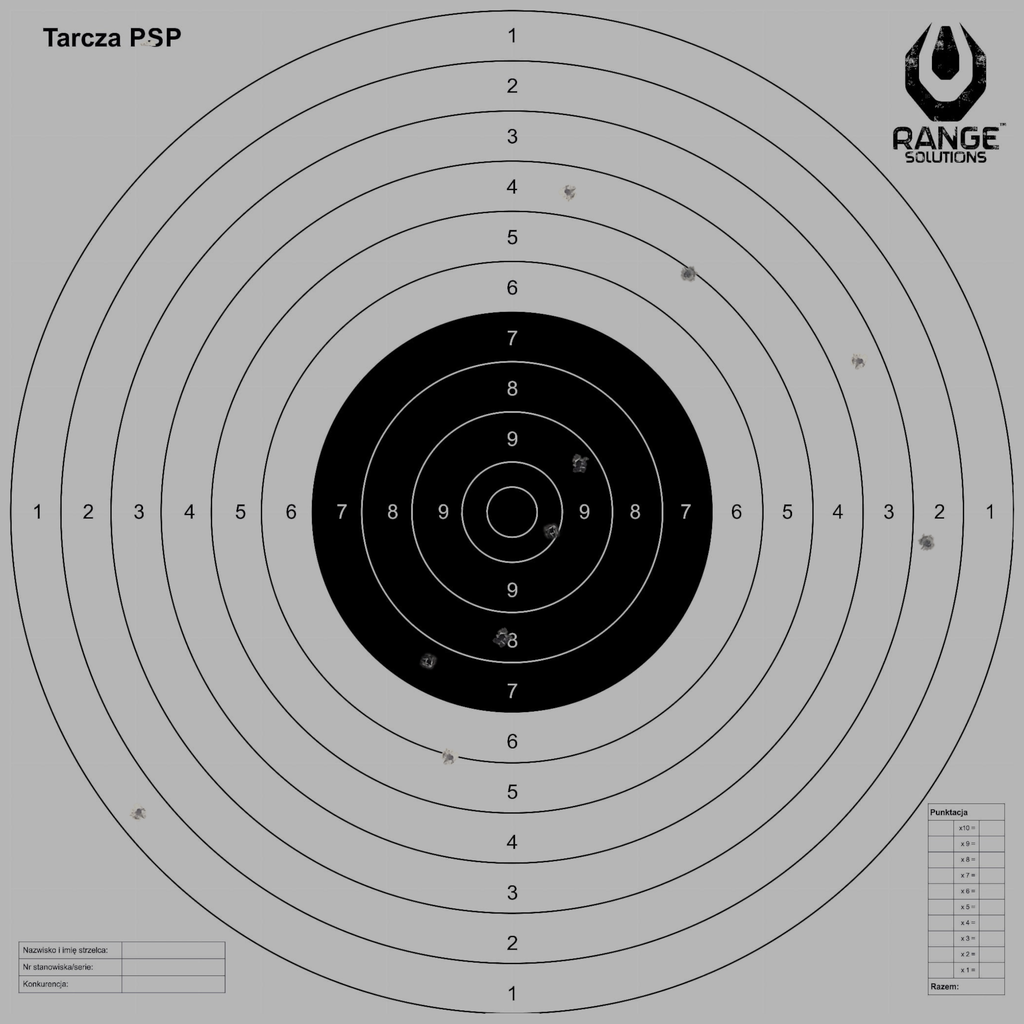0 punktow: (775, 8, 793, 27)
1 punkt: (130, 803, 148, 821)
10 punktow: (543, 521, 561, 540)
2 punkty: (918, 534, 936, 552)
3 punkty: (850, 352, 869, 371)
4 punkty: (559, 183, 577, 201)
5 punktow: (679, 265, 697, 283)
6 punktow: (441, 748, 459, 767)
7 punktow: (420, 653, 438, 671)
8 punktow: (493, 628, 511, 647)
9 punktow: (570, 455, 588, 473)
